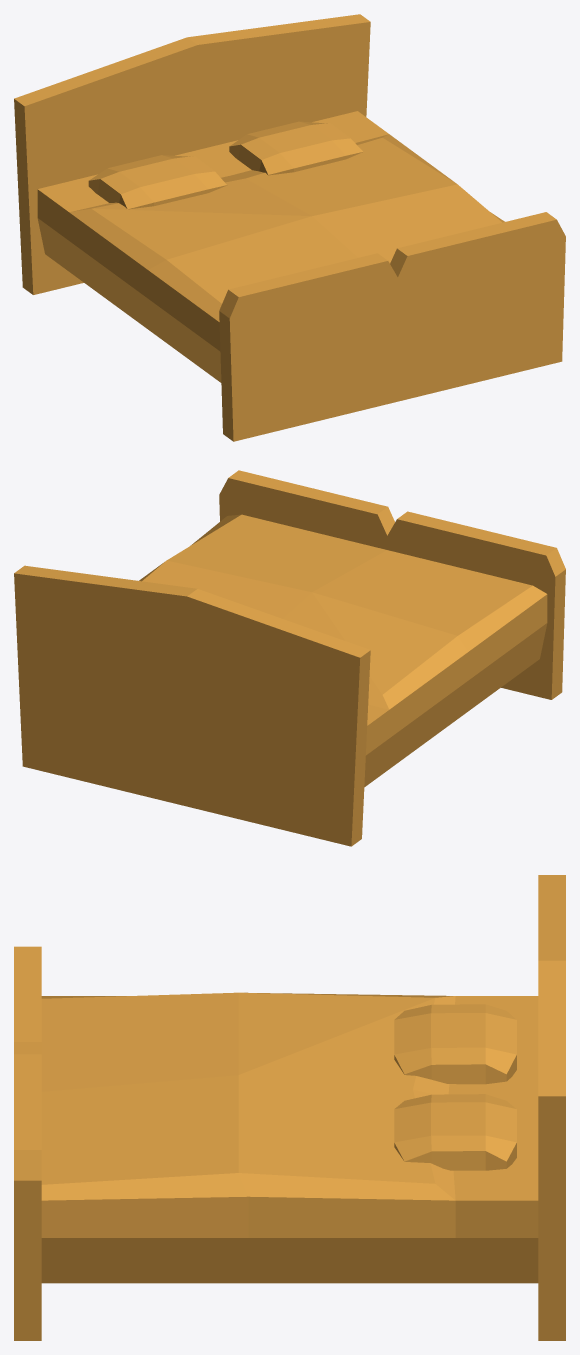
Rendered from bed-big-wood.fbx.
3 renders of one model, top to bottom at view 1: azimuth 30°, elevation 25°; view 2: azimuth 150°, elevation 25°; view 3: azimuth 270°, elevation 25°, orthographic. The views are drawn at different scales.
Parts seen in each view (by area): view 1: bed-big-wood; view 2: bed-big-wood; view 3: bed-big-wood.
Part boxes in pixels (x1,y1,x2,y2): bed-big-wood: [14, 14, 565, 441]; bed-big-wood: [14, 470, 565, 846]; bed-big-wood: [14, 875, 565, 1340].
Size of the model in its own units: 1.9 by 1.1 by 2.
